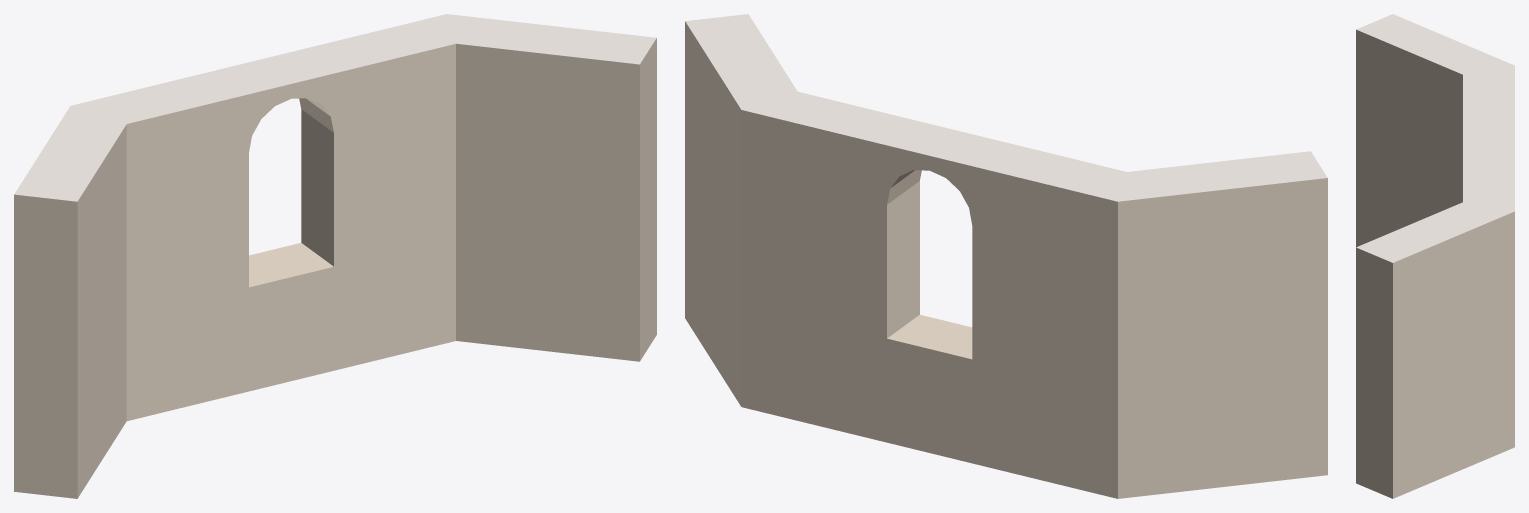
3 views of the same model, side by side, from view 1: azimuth 30°, elevation 25°; view 2: azimuth 150°, elevation 25°; view 3: azimuth 270°, elevation 25° (orthographic). The views are drawn at different scales.
Visible parts, largest first — view 1: object1.006; view 2: object1.006; view 3: object1.006.
Part boxes in pixels (box(x1,y1,x2,y2)): object1.006: box(14, 14, 656, 498); object1.006: box(685, 14, 1327, 498); object1.006: box(1356, 14, 1514, 498).
Bounding box in the file's own units: 2.26 × 1 × 0.6101.
